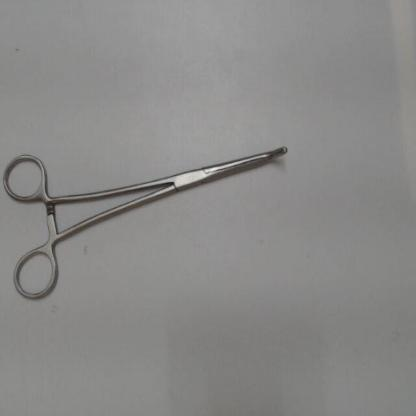Lahey Forceps: (2, 138, 296, 310)
